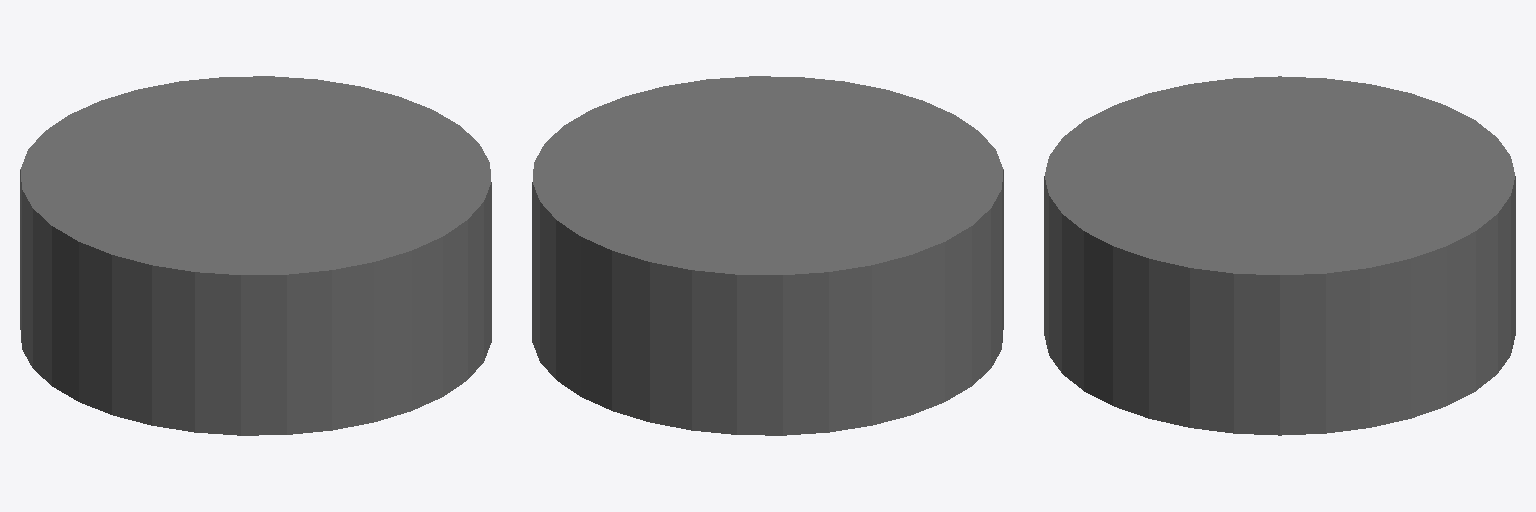
robot.urdf — cylinder:
<?xml version="1.0" encoding="utf-8"?>
<robot name="cylinder">
  <!-- Base link of the cylinder -->
  <link name="cylinder_link">
    <visual>
      <origin
        xyz="0 0 0.1"
        rpy="0 0 0" />
      <geometry>
        <cylinder radius="0.04" length="0.03"/>
      </geometry>
      <material name="red">
        <color rgba="0.5 0.5 0.5 0.5"/>
      </material>
    </visual>
    <collision>
      <origin
        xyz="0 0 0.1"
        rpy="1.57 0 0" />
      <geometry>
        <cylinder radius="0.08" length="0.02"/>
      </geometry>
    </collision>
    <inertial>
      <mass value="1.0"/>
      <origin xyz="0 0 0.1" rpy="1.57 0 0"/>
      <inertia ixx="0.02" ixy="0.0" ixz="0.0" iyy="0.02" iyz="0.0" izz="0.02"/>
    </inertial>
    <gazebo>
      <mu1>1</mu1> <!-- Increased dynamic friction coefficient -->
      <mu2>1</mu2> <!-- Increased static friction coefficient -->
    </gazebo>
  </link>
</robot>

--- Facts derived from the render (not from the file) ---
3 views of the same robot in one strip: view 1: azimuth 30°, elevation 25°; view 2: azimuth 150°, elevation 25°; view 3: azimuth 270°, elevation 25° (orthographic).
Robot: cylinder — 1 links, 0 joints (none); root link cylinder_link; default pose: every joint at zero.
Visible links, largest first — view 1: cylinder_link; view 2: cylinder_link; view 3: cylinder_link.
Link boxes in pixels (x1,y1,x2,y2): cylinder_link: (20,76,491,435); cylinder_link: (532,76,1003,435); cylinder_link: (1044,76,1515,435).
Size in the robot's own frame: 0.08 by 0.08 by 0.03 metres.
Geometry: primitives only (box / cylinder / sphere), no mesh files.